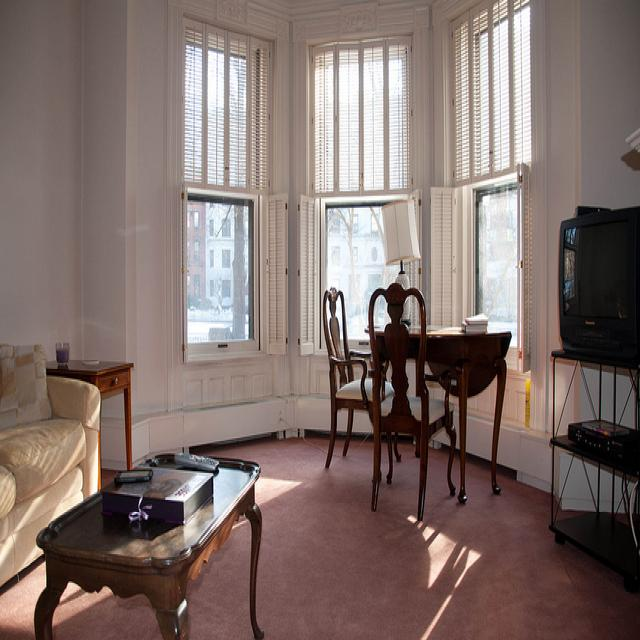chair: (369, 283, 459, 525), (323, 281, 373, 469)
dining table: (374, 322, 515, 503)
